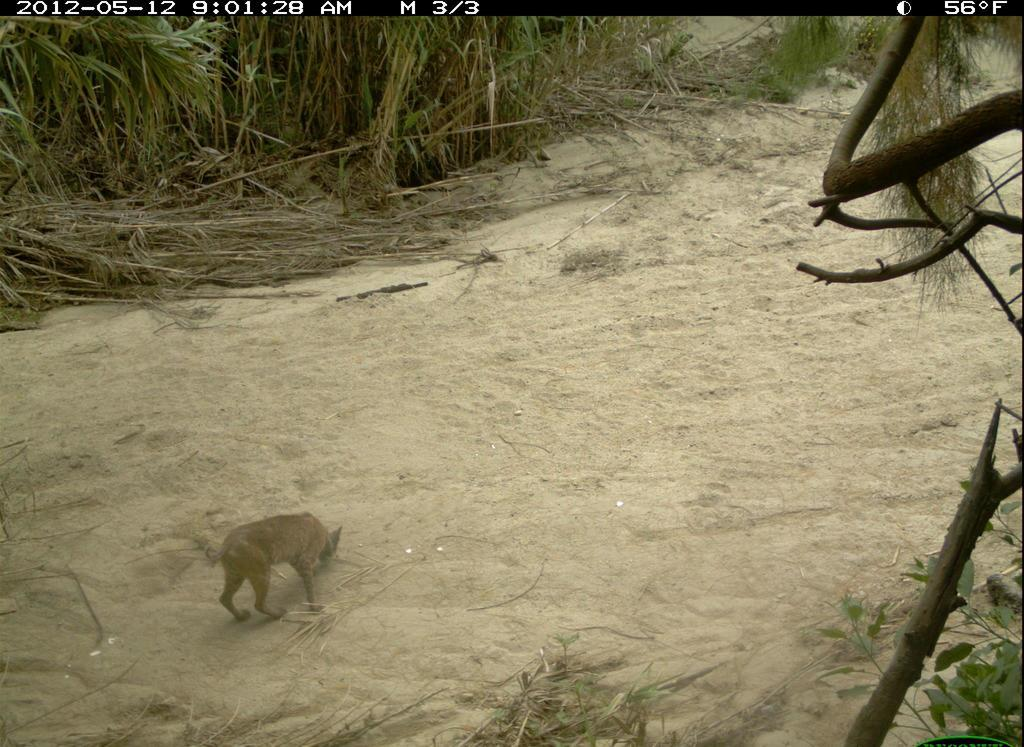bobcat: (184, 493, 373, 646)
